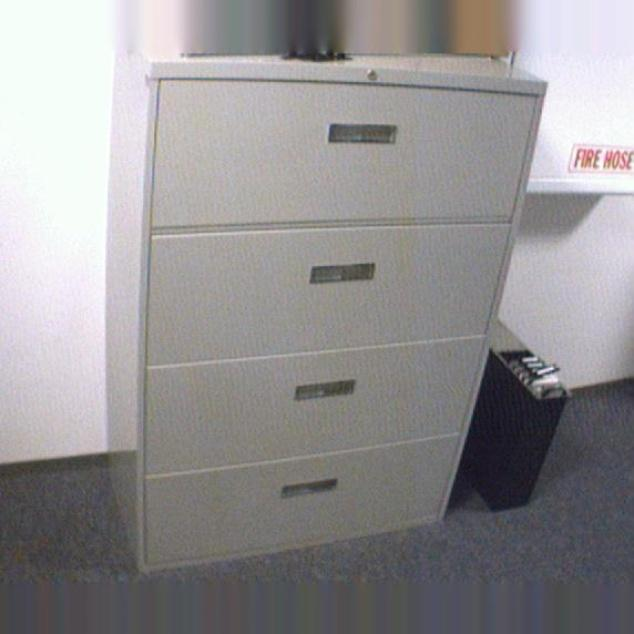Filing Cabinet: (134, 59, 548, 574)
